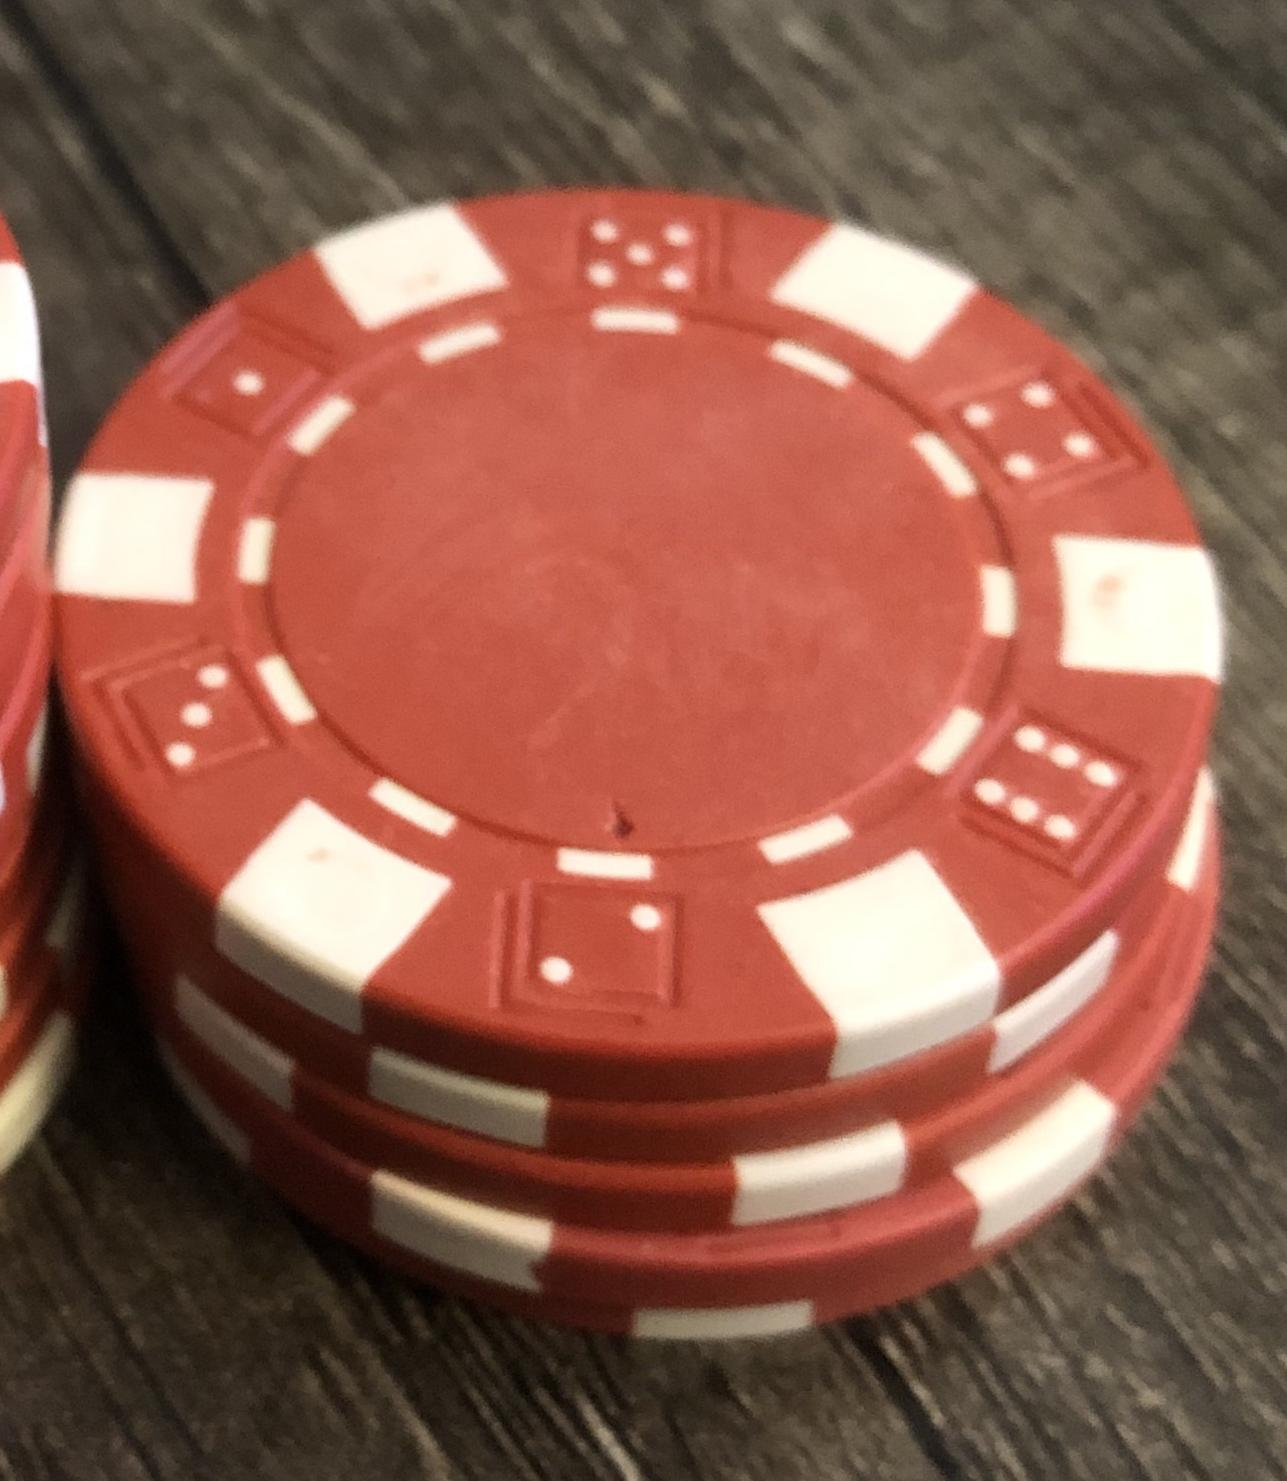Chip: (1, 1, 1287, 1481)
